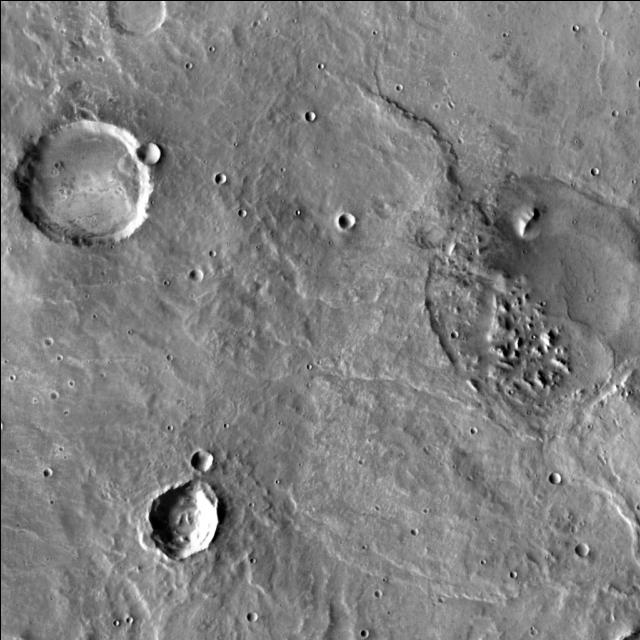crater: (435, 178, 640, 418), (22, 115, 157, 248), (152, 484, 224, 556), (112, 0, 170, 37), (420, 219, 450, 249), (142, 141, 166, 165), (195, 450, 216, 470), (342, 212, 360, 230), (194, 268, 208, 282), (552, 472, 566, 486), (580, 544, 592, 556), (308, 110, 320, 121), (220, 173, 230, 183), (251, 612, 261, 622), (500, 1, 510, 11), (48, 466, 58, 475), (50, 334, 58, 342), (54, 389, 62, 397), (448, 324, 456, 332), (365, 630, 373, 638), (380, 590, 388, 598), (473, 427, 481, 435), (513, 572, 521, 580), (595, 168, 603, 176), (392, 77, 400, 84), (237, 202, 244, 209), (182, 54, 189, 61), (244, 322, 251, 329), (408, 522, 416, 528), (122, 610, 130, 616), (206, 243, 213, 249), (618, 384, 624, 391), (567, 519, 574, 525), (527, 622, 534, 628), (314, 56, 320, 62)
